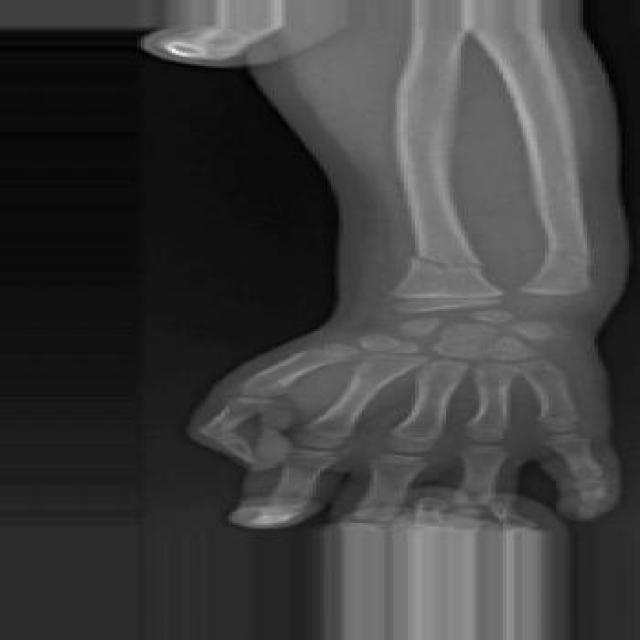Fracture: (391, 252, 498, 276), (537, 244, 610, 261)
